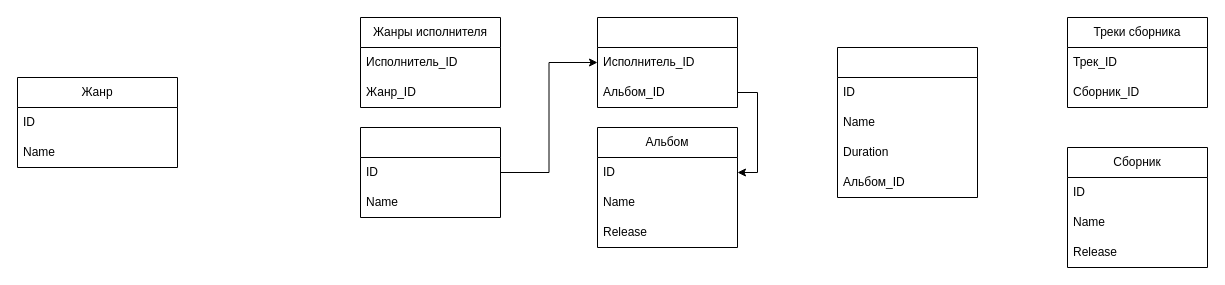
Some shapes in this 1225 by 285 pixel diagram are drawn without their labels. The box of each missing label's shape, as (x1, y1, x2, y2) in pixels:
Альбомы исполнителя: (596, 16, 738, 108)
Исполнитель: (360, 126, 500, 218)
Трек: (836, 46, 978, 198)
